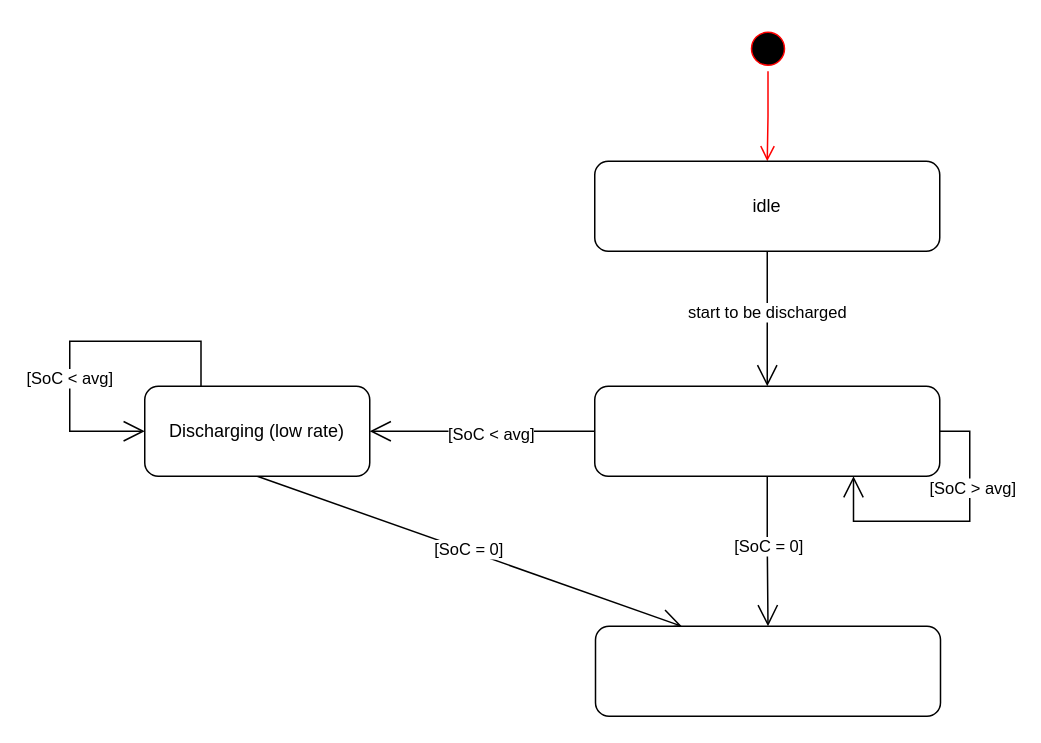
This 1041x743 diagram has some shape labels left out. The centre of each missing label's shape, as x and y in pixels:
Discharging (normal rate): (x=766, y=430)
Empty: (x=767, y=670)
